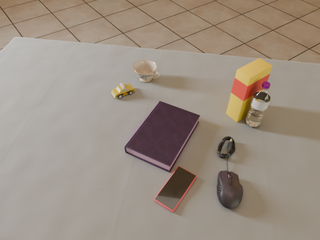book: (125, 101, 200, 172)
bottle: (246, 81, 271, 127)
box: (226, 58, 272, 122)
cup: (134, 60, 159, 82)
mouse: (217, 171, 243, 209)
phone: (154, 166, 197, 212)
toy_car: (111, 83, 135, 98)
